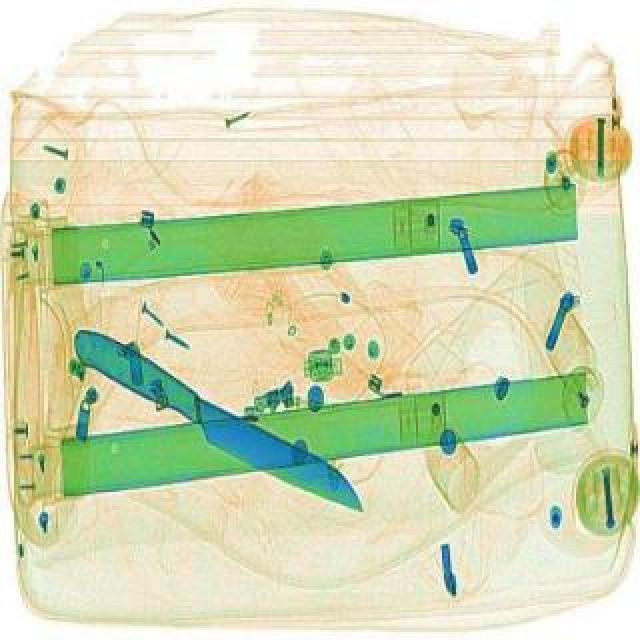knife: (56, 326, 380, 528)
